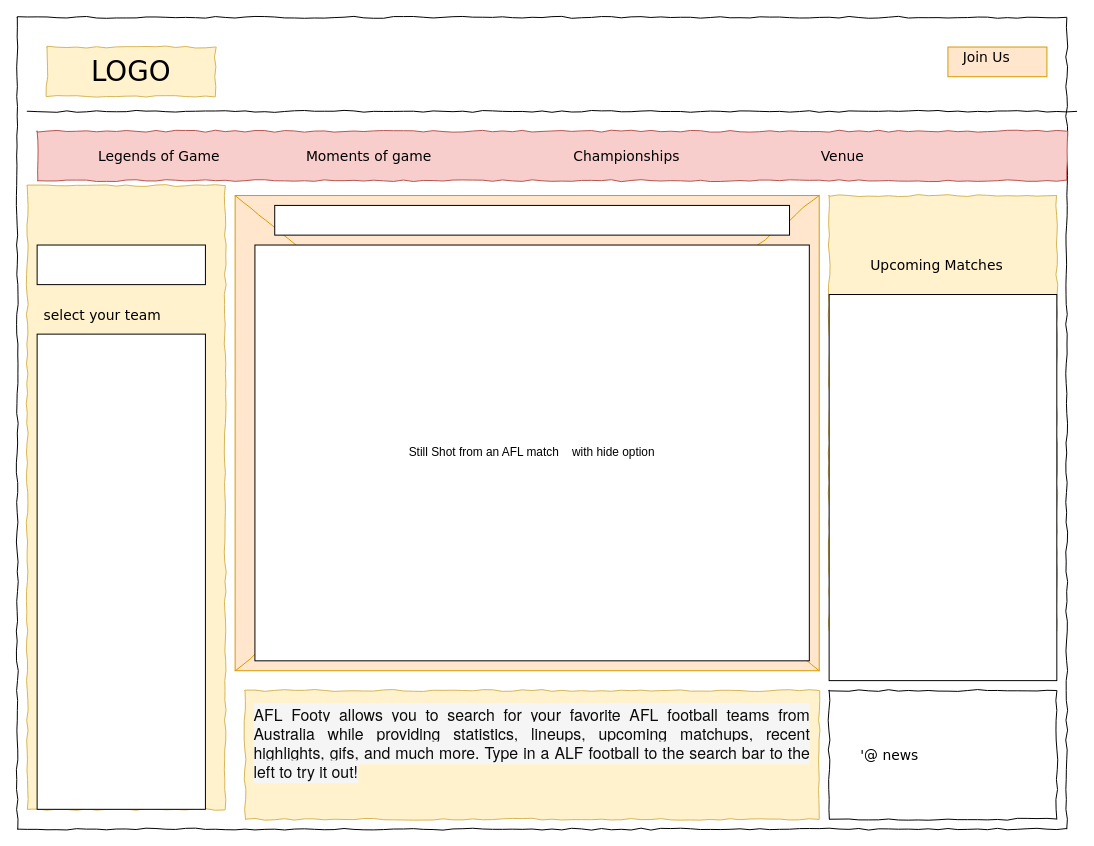
This 1094x846 diagram has some shape labels left out. The shapes that lost their labels are listed below. From the top down, each one's centre as x and y in pixels, then its label:
At pixel 532 219: "Welcome to the home of AFL Footy".
At pixel 942 487: "Logos for all the teams".
At pixel 120 571: "Team names".
